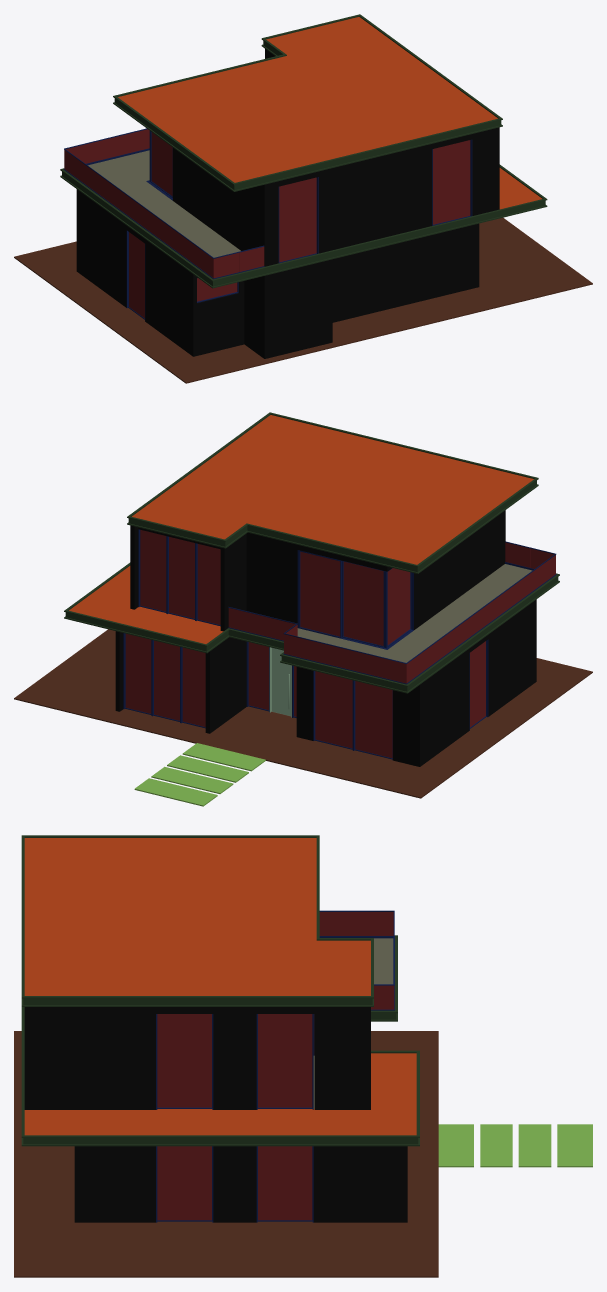
The model's file is House_V3.fbx.
3 renders of one model, top to bottom at view 1: azimuth 30°, elevation 25°; view 2: azimuth 150°, elevation 25°; view 3: azimuth 270°, elevation 25°, orthographic. The views are drawn at different scales.
Visible parts, largest first — view 1: Wall_Exterior, Roof, Floor_Exterior, Window_Glass, Border, Floor_Interior, Window_Frame; view 2: Roof, Window_Glass, Wall_Exterior, Floor_Exterior, Border, Window_Frame, Floor_Steps, Floor_Interior, Door_Wing; view 3: Roof, Wall_Exterior, Floor_Exterior, Window_Glass, Border, Floor_Steps, Window_Frame, Floor_Interior.
Part boxes in pixels (box(x1,y1,x2,y2)): Wall_Exterior: box(76, 49, 499, 358); Roof: box(118, 17, 542, 209); Floor_Exterior: box(14, 217, 592, 383); Window_Glass: box(64, 129, 470, 318); Border: box(60, 14, 547, 288); Floor_Interior: box(88, 150, 240, 257); Window_Frame: box(63, 128, 472, 321); Roof: box(69, 415, 533, 643); Window_Glass: box(125, 530, 555, 758); Wall_Exterior: box(115, 510, 536, 766); Floor_Exterior: box(14, 629, 592, 798); Border: box(64, 412, 559, 693); Window_Frame: box(123, 529, 556, 760); Floor_Steps: box(134, 743, 265, 806); Floor_Interior: box(272, 564, 532, 716); Door_Wing: box(271, 648, 291, 715); Roof: box(24, 838, 416, 1135); Wall_Exterior: box(24, 1007, 407, 1222); Floor_Exterior: box(14, 1031, 438, 1277); Window_Glass: box(157, 912, 394, 1220); Border: box(21, 835, 419, 1146); Floor_Steps: box(438, 1124, 592, 1167); Window_Frame: box(156, 910, 394, 1222); Floor_Interior: box(313, 938, 393, 1108).
Size of the model in its own units: 754 by 327 by 753.
